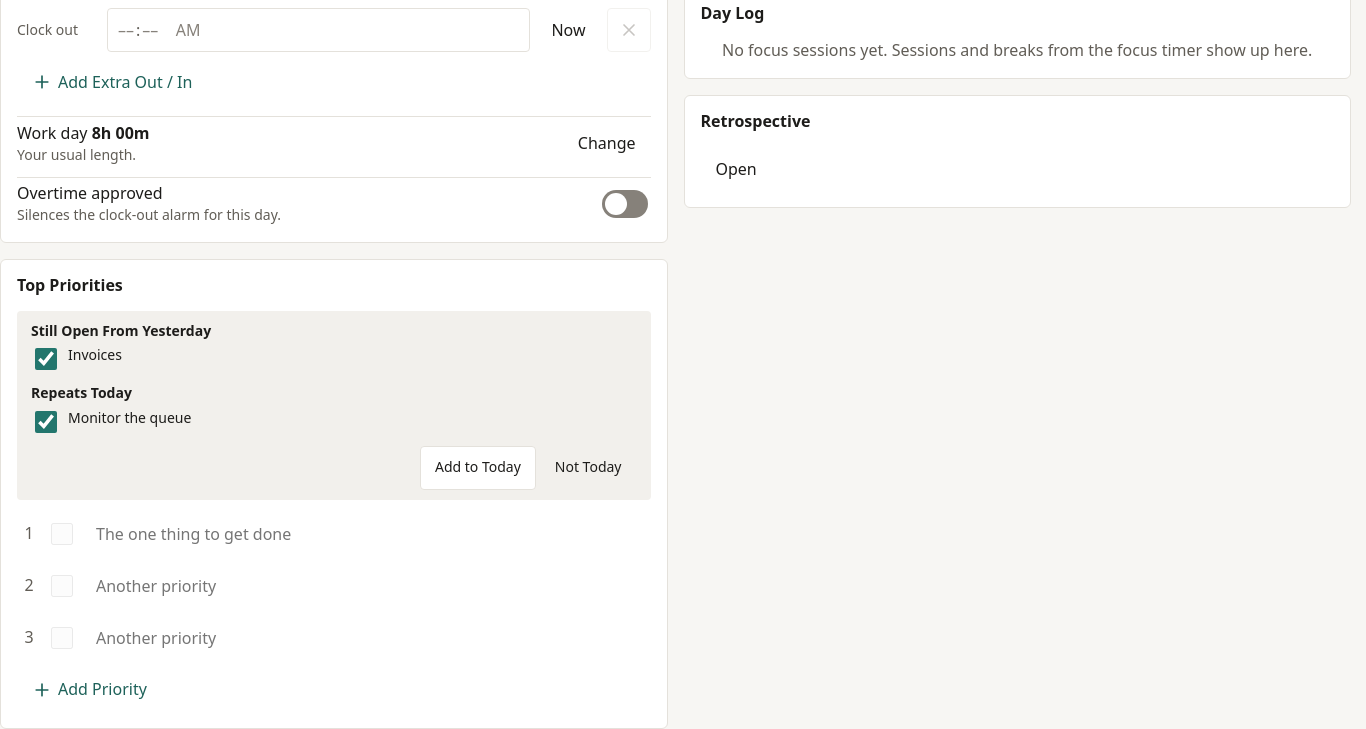
Test: Sheet: the recurring priorities due today › shows the leftovers beside them, and Not today stamps the day at once, saving no list
(page scrolled)
Click the button "Not Today".
click(588, 468)  # box top-left (540, 446), bottom-right (636, 490)
(page scrolled)
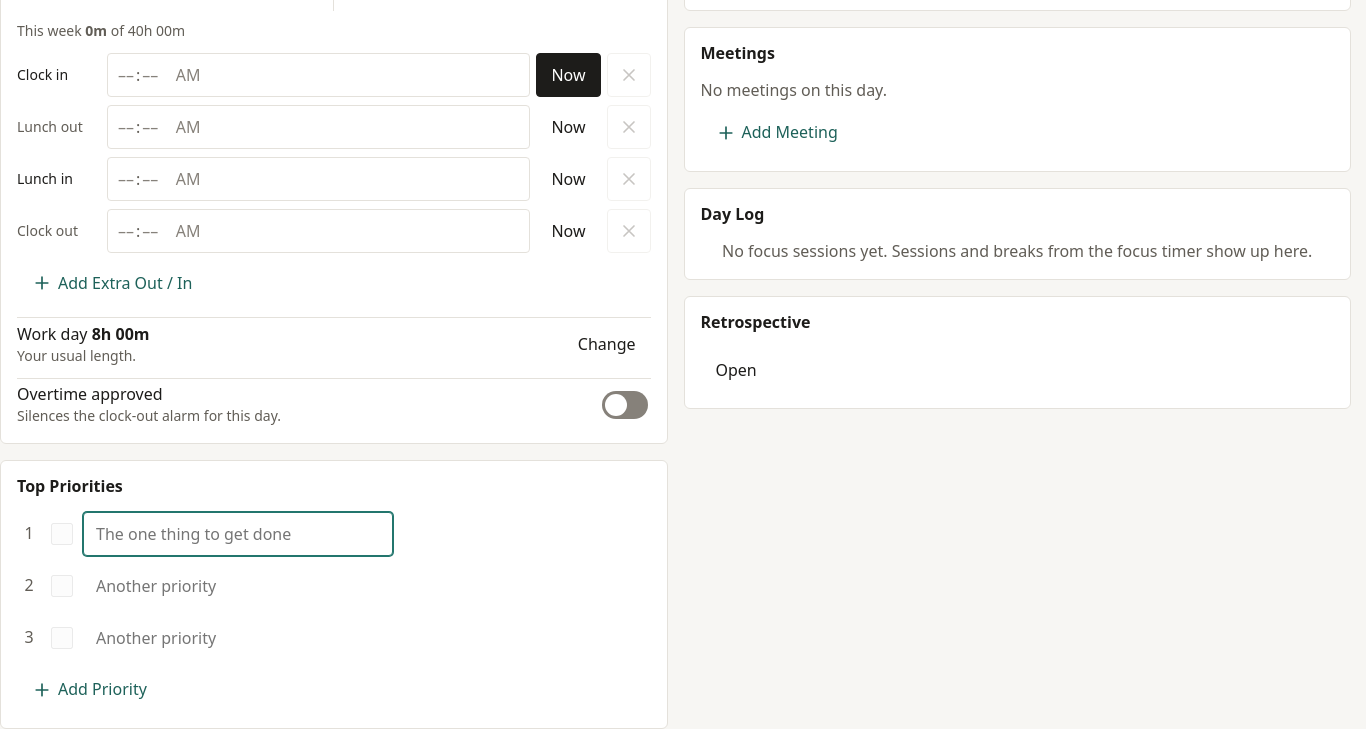
Expected: the element with class "today-offer" is gone
